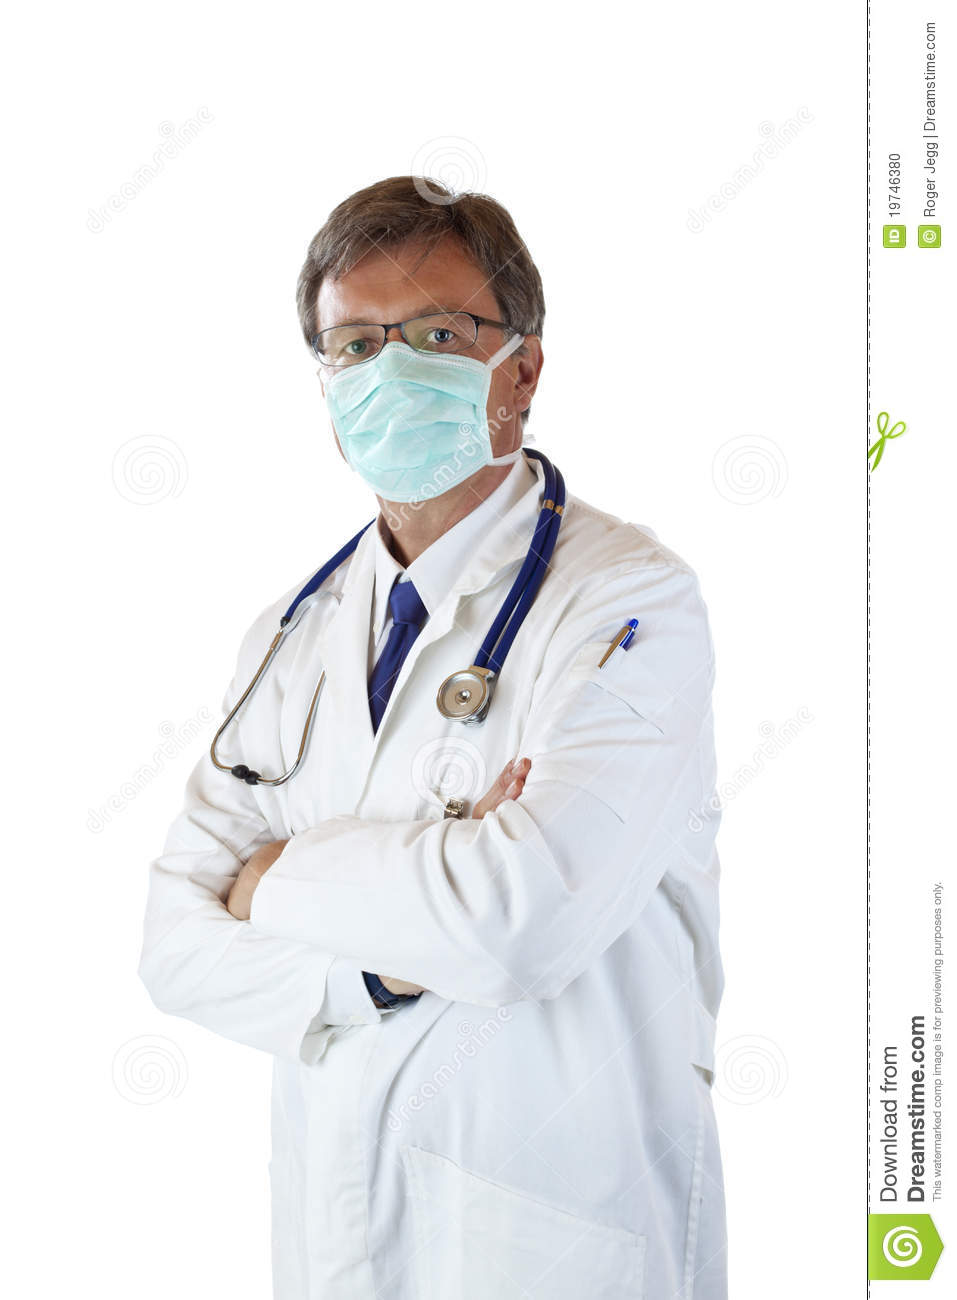mask: (326, 347, 511, 507)
